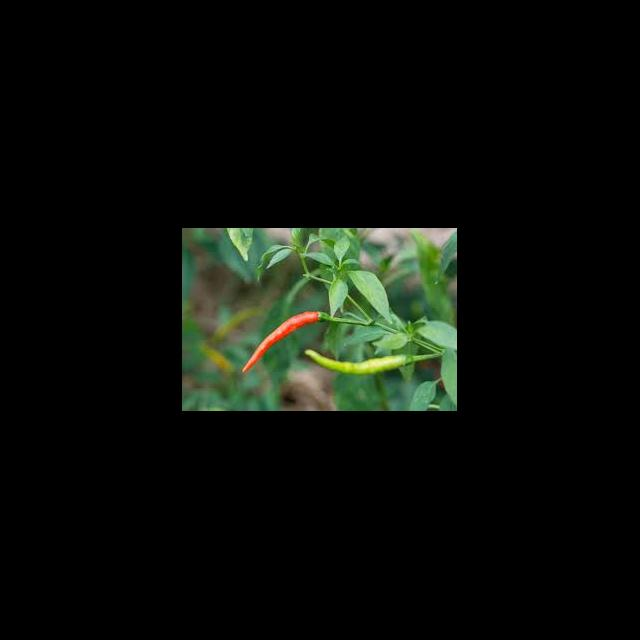chili_pepper: (242, 312, 320, 374), (304, 351, 419, 376)
